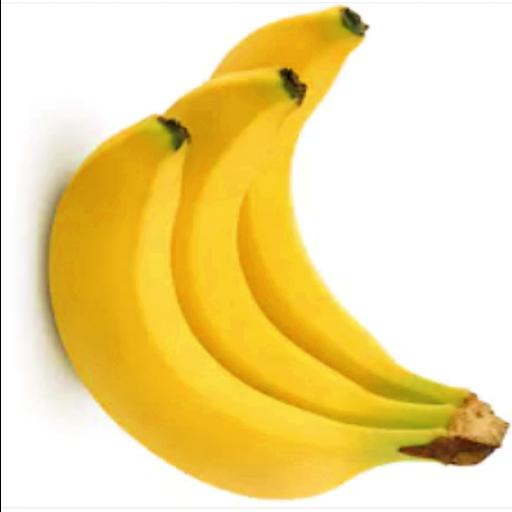banana: (48, 116, 505, 498), (166, 70, 452, 428), (214, 7, 468, 402)
